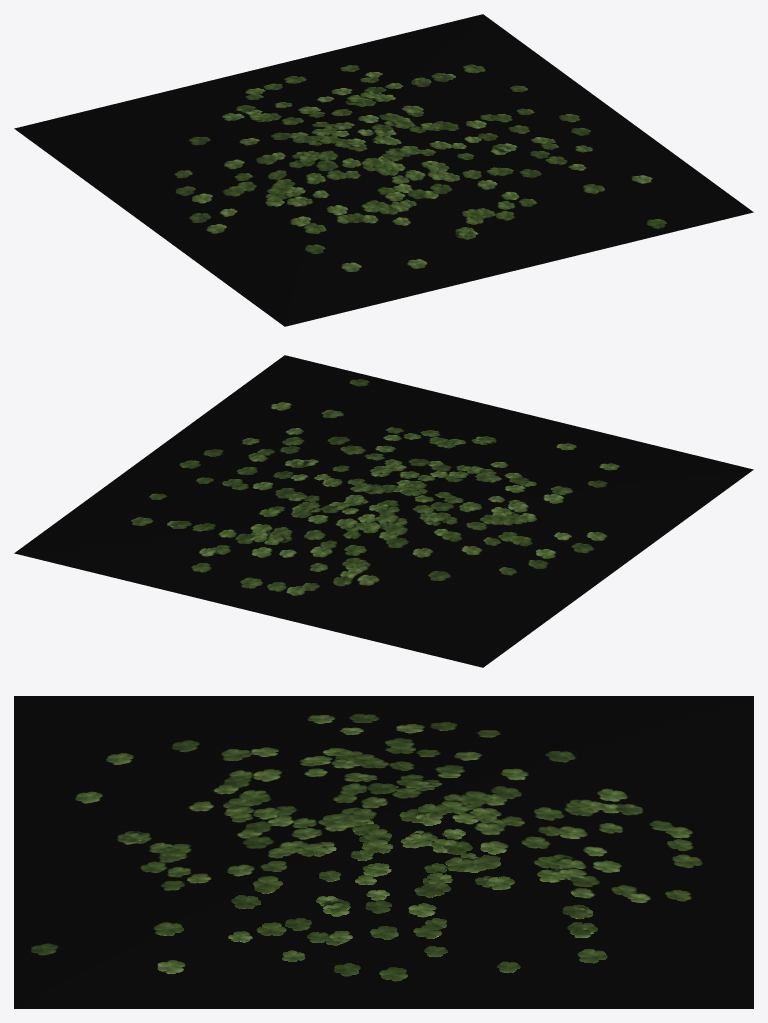
Rendered from clover5.glb.
3 renders of one model, top to bottom at view 1: azimuth 30°, elevation 25°; view 2: azimuth 150°, elevation 25°; view 3: azimuth 270°, elevation 25°, orthographic. The views are drawn at different scales.
Parts seen in each view (by area): view 1: Clover-03; view 2: Clover-03; view 3: Clover-03.
Boxes of the visible parts, x1,y1,x2,y2 form: Clover-03: (14, 14, 753, 326); Clover-03: (14, 355, 753, 667); Clover-03: (14, 696, 753, 1008).
Bounding box in the file's own units: 1.61 × 0.0688 × 1.61.
Materials: 1 (1 with a texture image).
